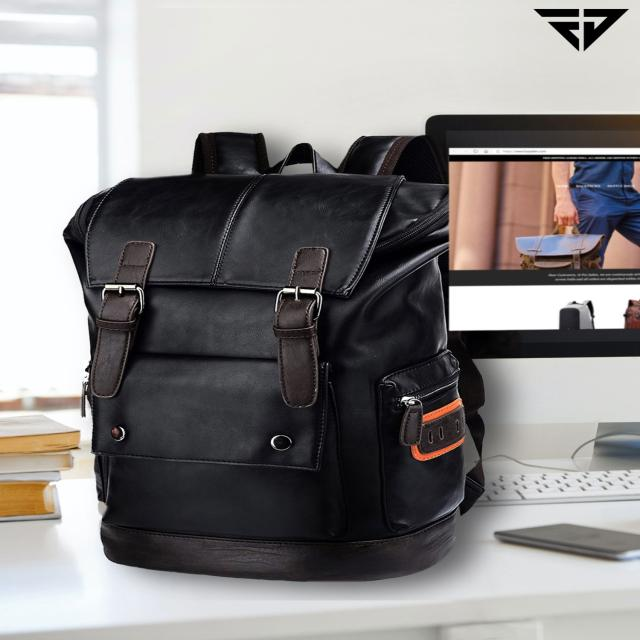backpack: (63, 132, 488, 583)
